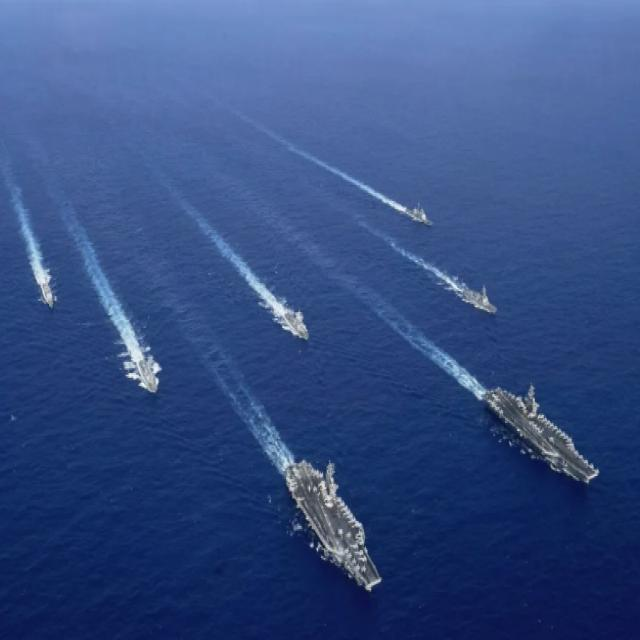navalvessels: (276, 437, 386, 609), (480, 362, 604, 490), (119, 321, 172, 393), (450, 274, 507, 311), (273, 286, 315, 332), (38, 264, 61, 314), (406, 195, 434, 229)
